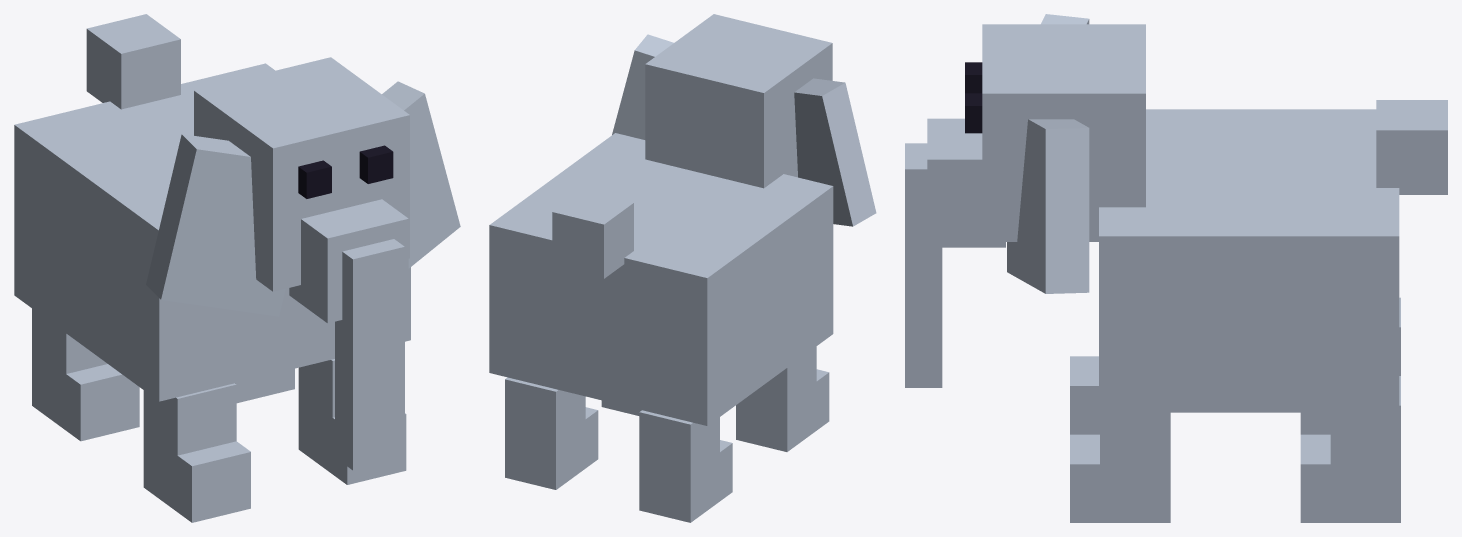
File: animal6.fbx
3 views of the same model, side by side, from view 1: azimuth 30°, elevation 25°; view 2: azimuth 150°, elevation 25°; view 3: azimuth 270°, elevation 25° (orthographic). The views are drawn at different scales.
Visible parts, largest first — view 1: Elephant; view 2: Elephant; view 3: Elephant.
Boxes of the visible parts, x1,y1,x2,y2 form: Elephant: (14,14,460,522); Elephant: (489,14,876,522); Elephant: (905,14,1447,522).
Bounding box in the file's own units: 2.57 × 3.25 × 3.9.
